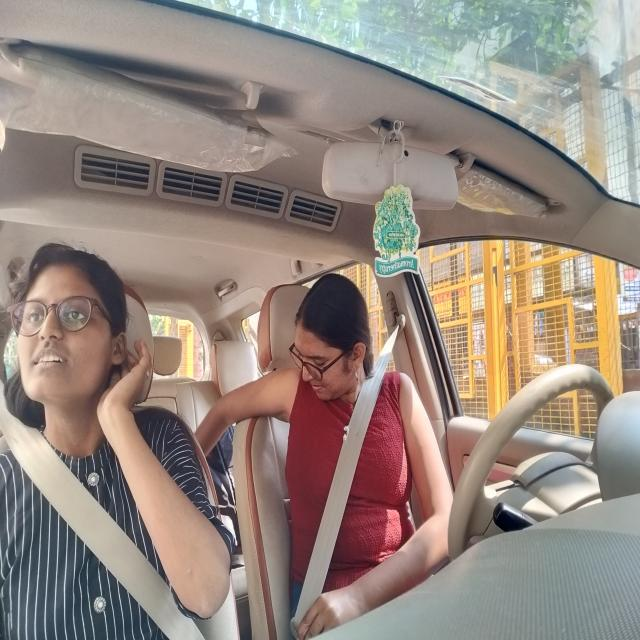LeftRight: (277, 281, 384, 413)
person: (8, 248, 132, 416)
